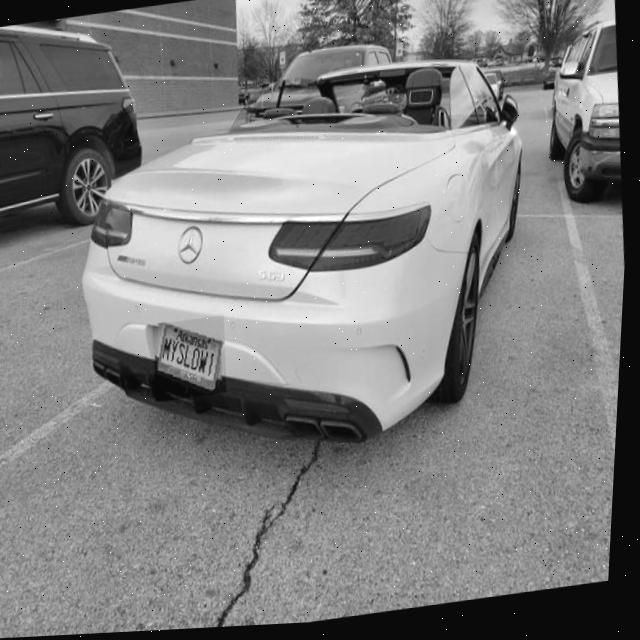LicensePlate: (158, 325, 228, 396)
